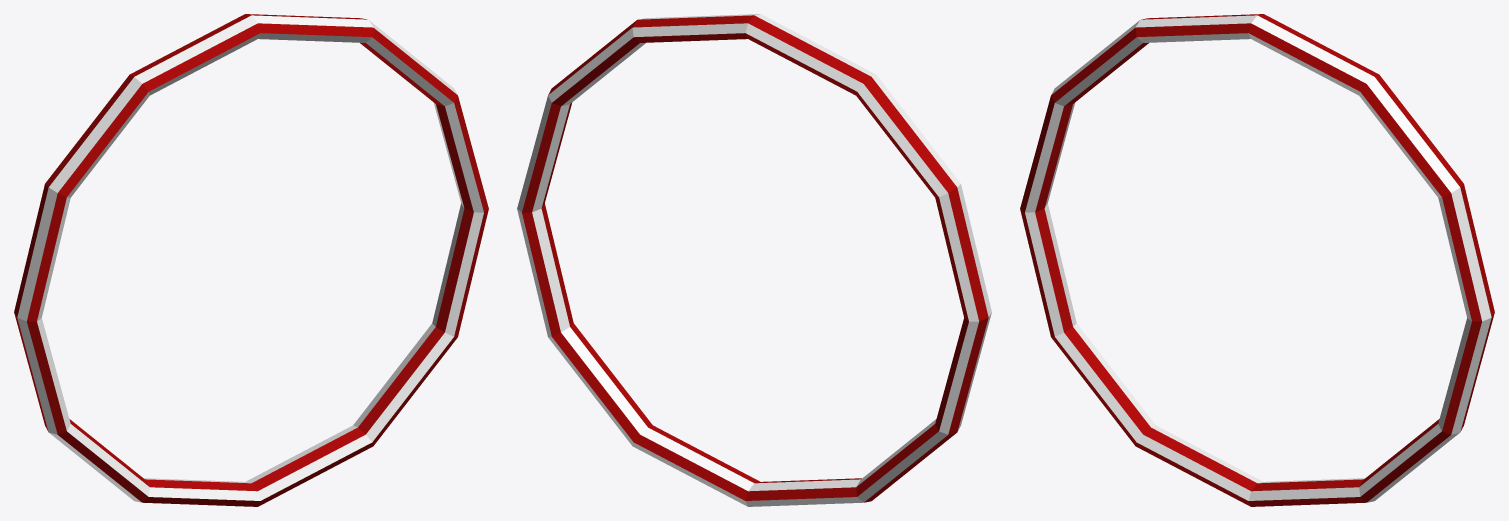
File: boost_ring.glb
The picture shows the model from 3 angles, left to right: view 1: azimuth 30°, elevation 25°; view 2: azimuth 150°, elevation 25°; view 3: azimuth 330°, elevation 25°; orthographic projection.
Visible parts, largest first — view 1: Torus; view 2: Torus; view 3: Torus.
Part boxes in pixels (x1=…): Torus: x1=14, y1=14, x2=488, y2=506; Torus: x1=517, y1=14, x2=991, y2=506; Torus: x1=1020, y1=14, x2=1494, y2=506.
Size of the model in its own units: 15 by 15 by 0.9998.
1 material, 1 textured.
